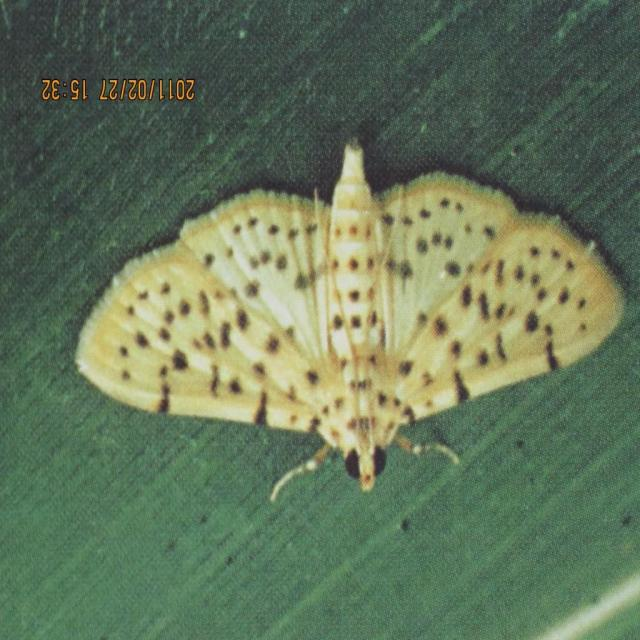peach borer: (71, 123, 629, 507)
